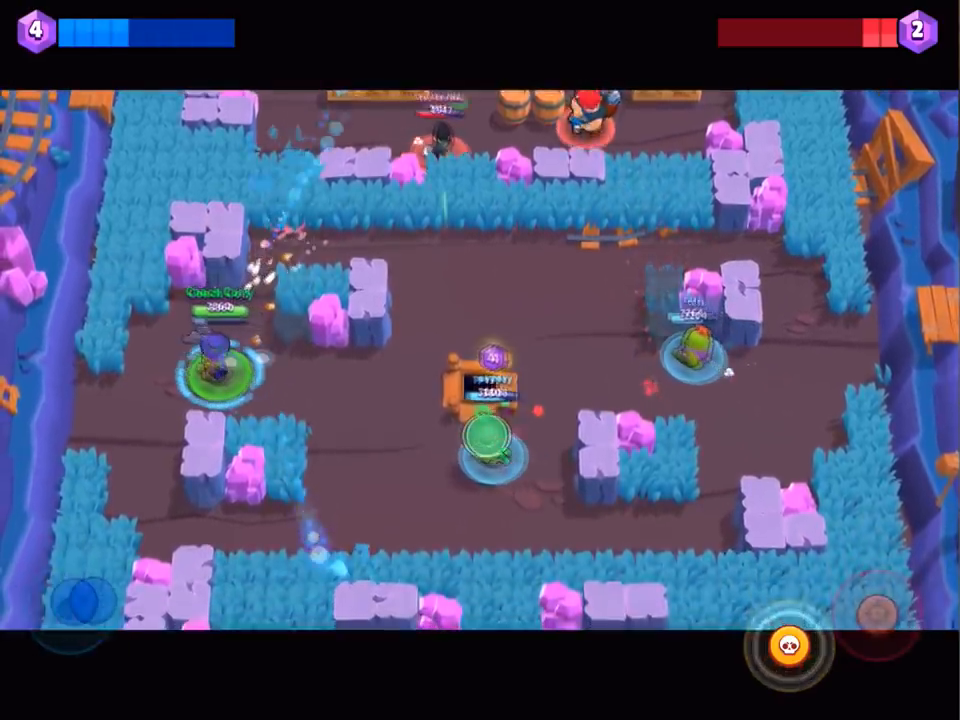move_stick: (63, 579, 115, 617)
red: (560, 84, 615, 166), (410, 107, 466, 170)
